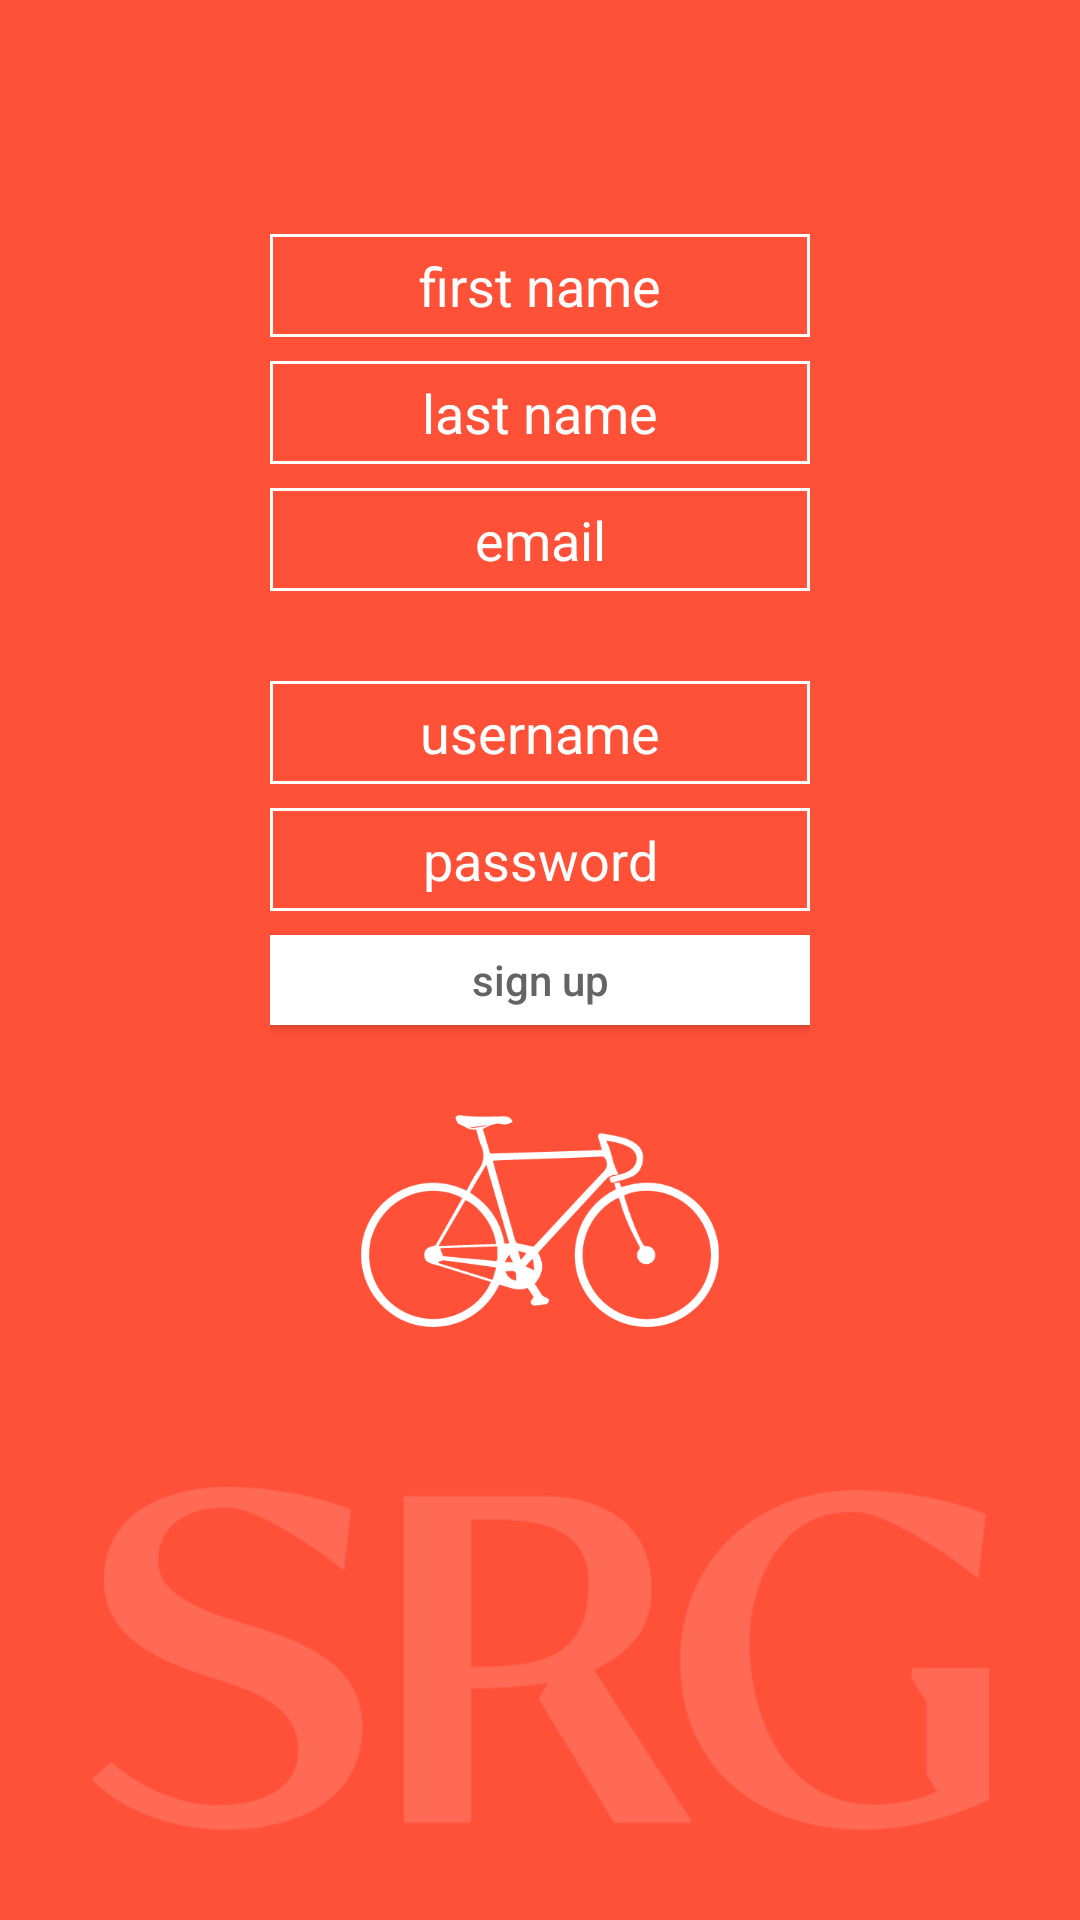

Icon click points for this 1080px x 1920px phone screenshot, format (x,y):
bikewhite: (540,1221)
